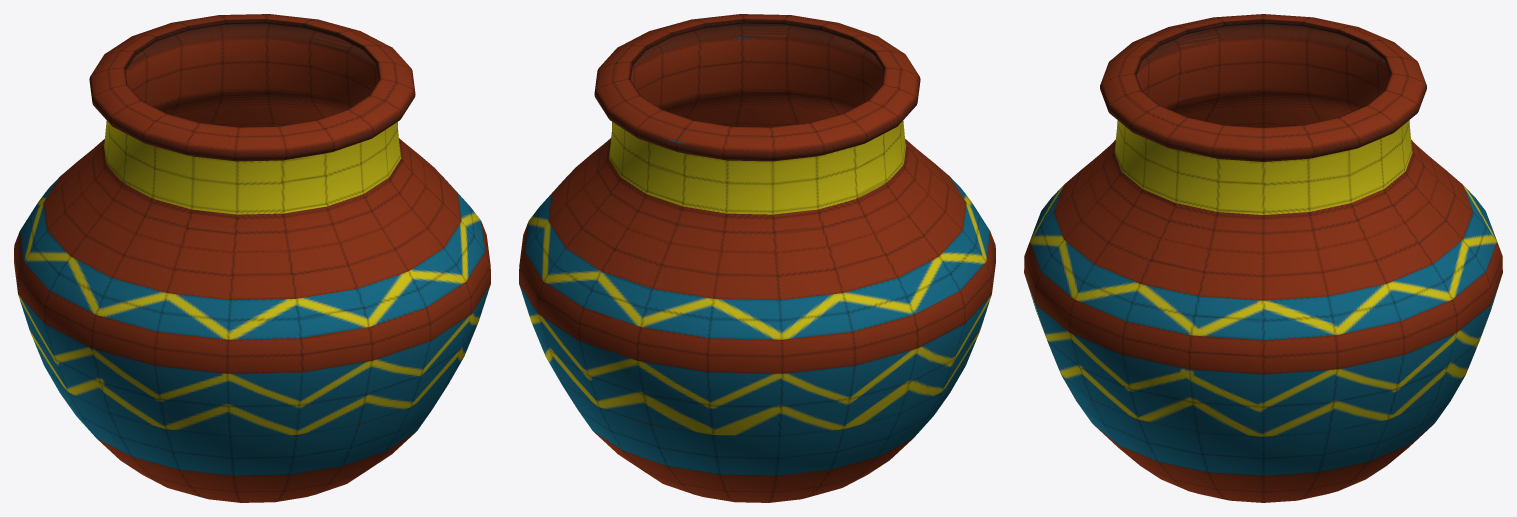
The model's file is Matka-02 (1).fbx.
3 renders of one model, left to right at view 1: azimuth 30°, elevation 25°; view 2: azimuth 150°, elevation 25°; view 3: azimuth 270°, elevation 25°, orthographic.
Parts seen in each view (by area): view 1: BezierCurve; view 2: BezierCurve; view 3: BezierCurve.
Part boxes in pixels (bbox=[...]): BezierCurve: bbox=[14, 14, 490, 502]; BezierCurve: bbox=[519, 14, 995, 502]; BezierCurve: bbox=[1024, 14, 1502, 502].
Size of the model in its own units: 220 by 203 by 220.
1 material, 1 textured.
